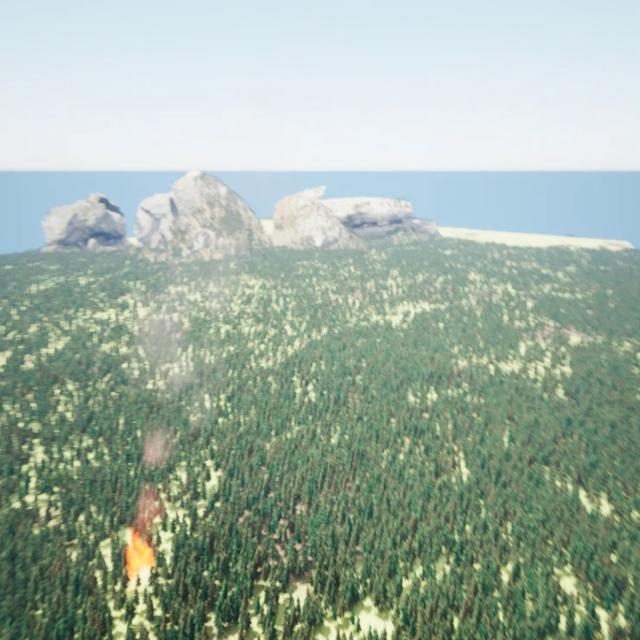fire: (124, 530, 155, 574)
